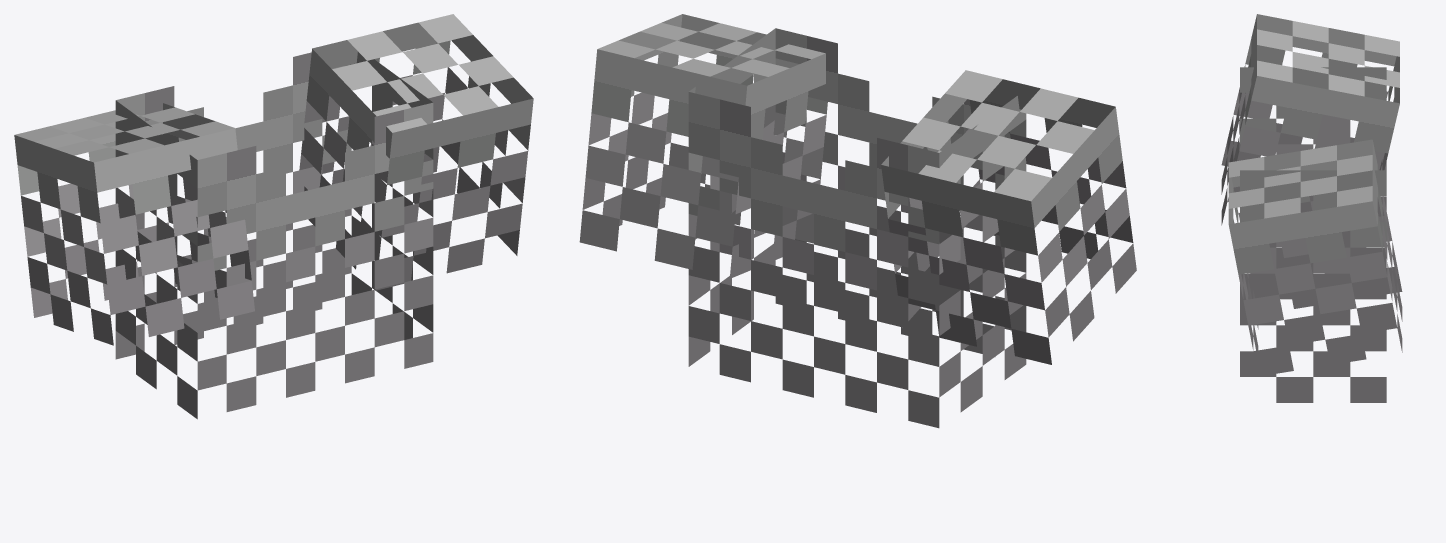
File: chainmail.gltf
3 views of the same model, side by side, from view 1: azimuth 30°, elevation 25°; view 2: azimuth 150°, elevation 25°; view 3: azimuth 270°, elevation 25° (orthographic). The views are drawn at different scales.
Visible parts, largest first — view 1: Chestplate, Left Arm Armor, Right Arm Armor; view 2: Chestplate, Left Arm Armor, Right Arm Armor; view 3: Right Arm Armor, Left Arm Armor, Chestplate.
Boxes of the visible parts, x1,y1,x2,y2 form: Chestplate: [115, 51, 433, 419]; Left Arm Armor: [14, 103, 254, 345]; Right Arm Armor: [299, 14, 533, 290]; Chestplate: [688, 28, 1026, 428]; Left Arm Armor: [881, 70, 1136, 364]; Right Arm Armor: [579, 14, 827, 278]; Right Arm Armor: [1228, 139, 1402, 376]; Left Arm Armor: [1221, 14, 1399, 254]; Chestplate: [1240, 67, 1386, 402].
Size of the model in its own units: 1.12 by 0.9338 by 0.6304.
Materials: 1 (1 with a texture image).
